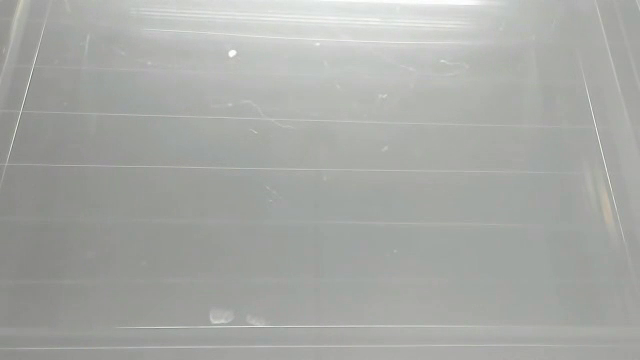alpha: (204, 304, 275, 332), (225, 43, 241, 62)
